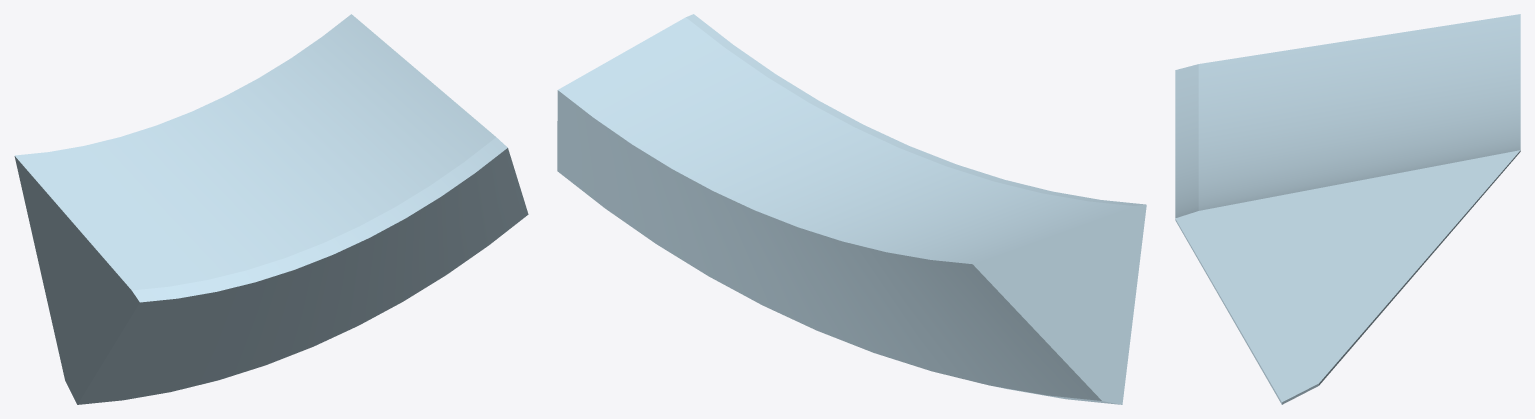
The model's file is Sub_2_Cell_1_1.gltf.
The picture shows the model from 3 angles, left to right: view 1: azimuth 30°, elevation 25°; view 2: azimuth 150°, elevation 25°; view 3: azimuth 270°, elevation 25°; orthographic projection. The views are drawn at different scales.
Visible parts, largest first — view 1: Sub_2_Cell_1_1; view 2: Sub_2_Cell_1_1; view 3: Sub_2_Cell_1_1.
Part boxes in pixels (x1=…): Sub_2_Cell_1_1: x1=14, y1=14, x2=528, y2=404; Sub_2_Cell_1_1: x1=557, y1=14, x2=1146, y2=404; Sub_2_Cell_1_1: x1=1175, y1=14, x2=1520, y2=404.
Size of the model in its own units: 0.1156 by 0.0597 by 0.0592.
